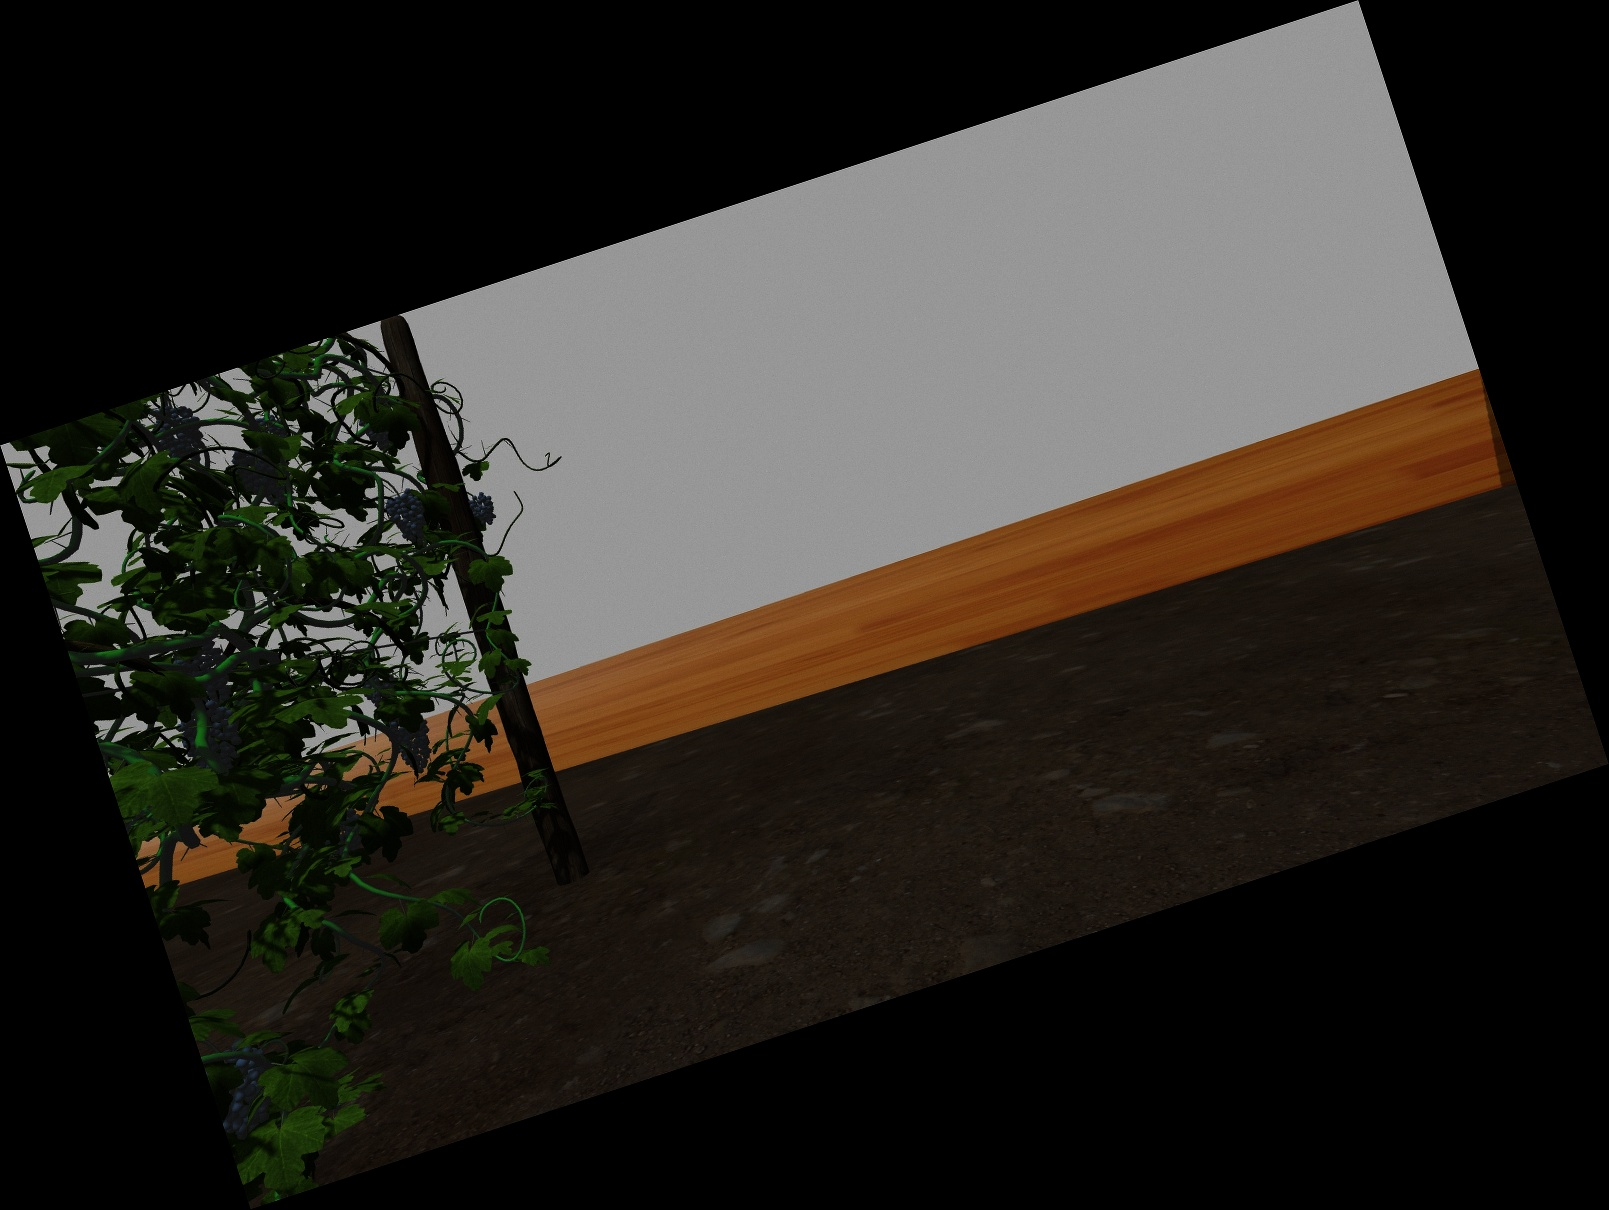grape: (184, 703, 239, 778), (156, 405, 203, 464), (235, 447, 280, 505), (393, 710, 431, 773), (391, 491, 427, 548), (473, 493, 494, 526)
